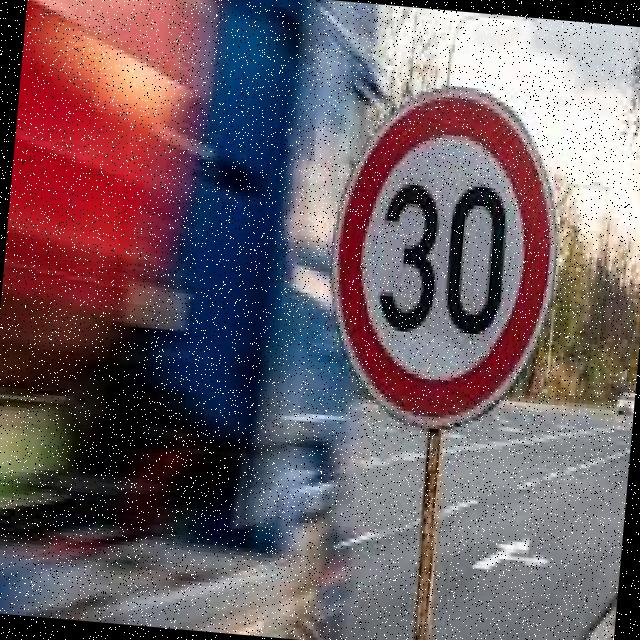speed_limit_30: (303, 67, 582, 442)
